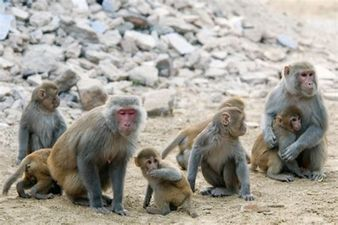monkey: (30, 74, 163, 196), (241, 48, 335, 177), (180, 92, 255, 212), (18, 29, 65, 205), (262, 109, 315, 195), (131, 147, 181, 209)
